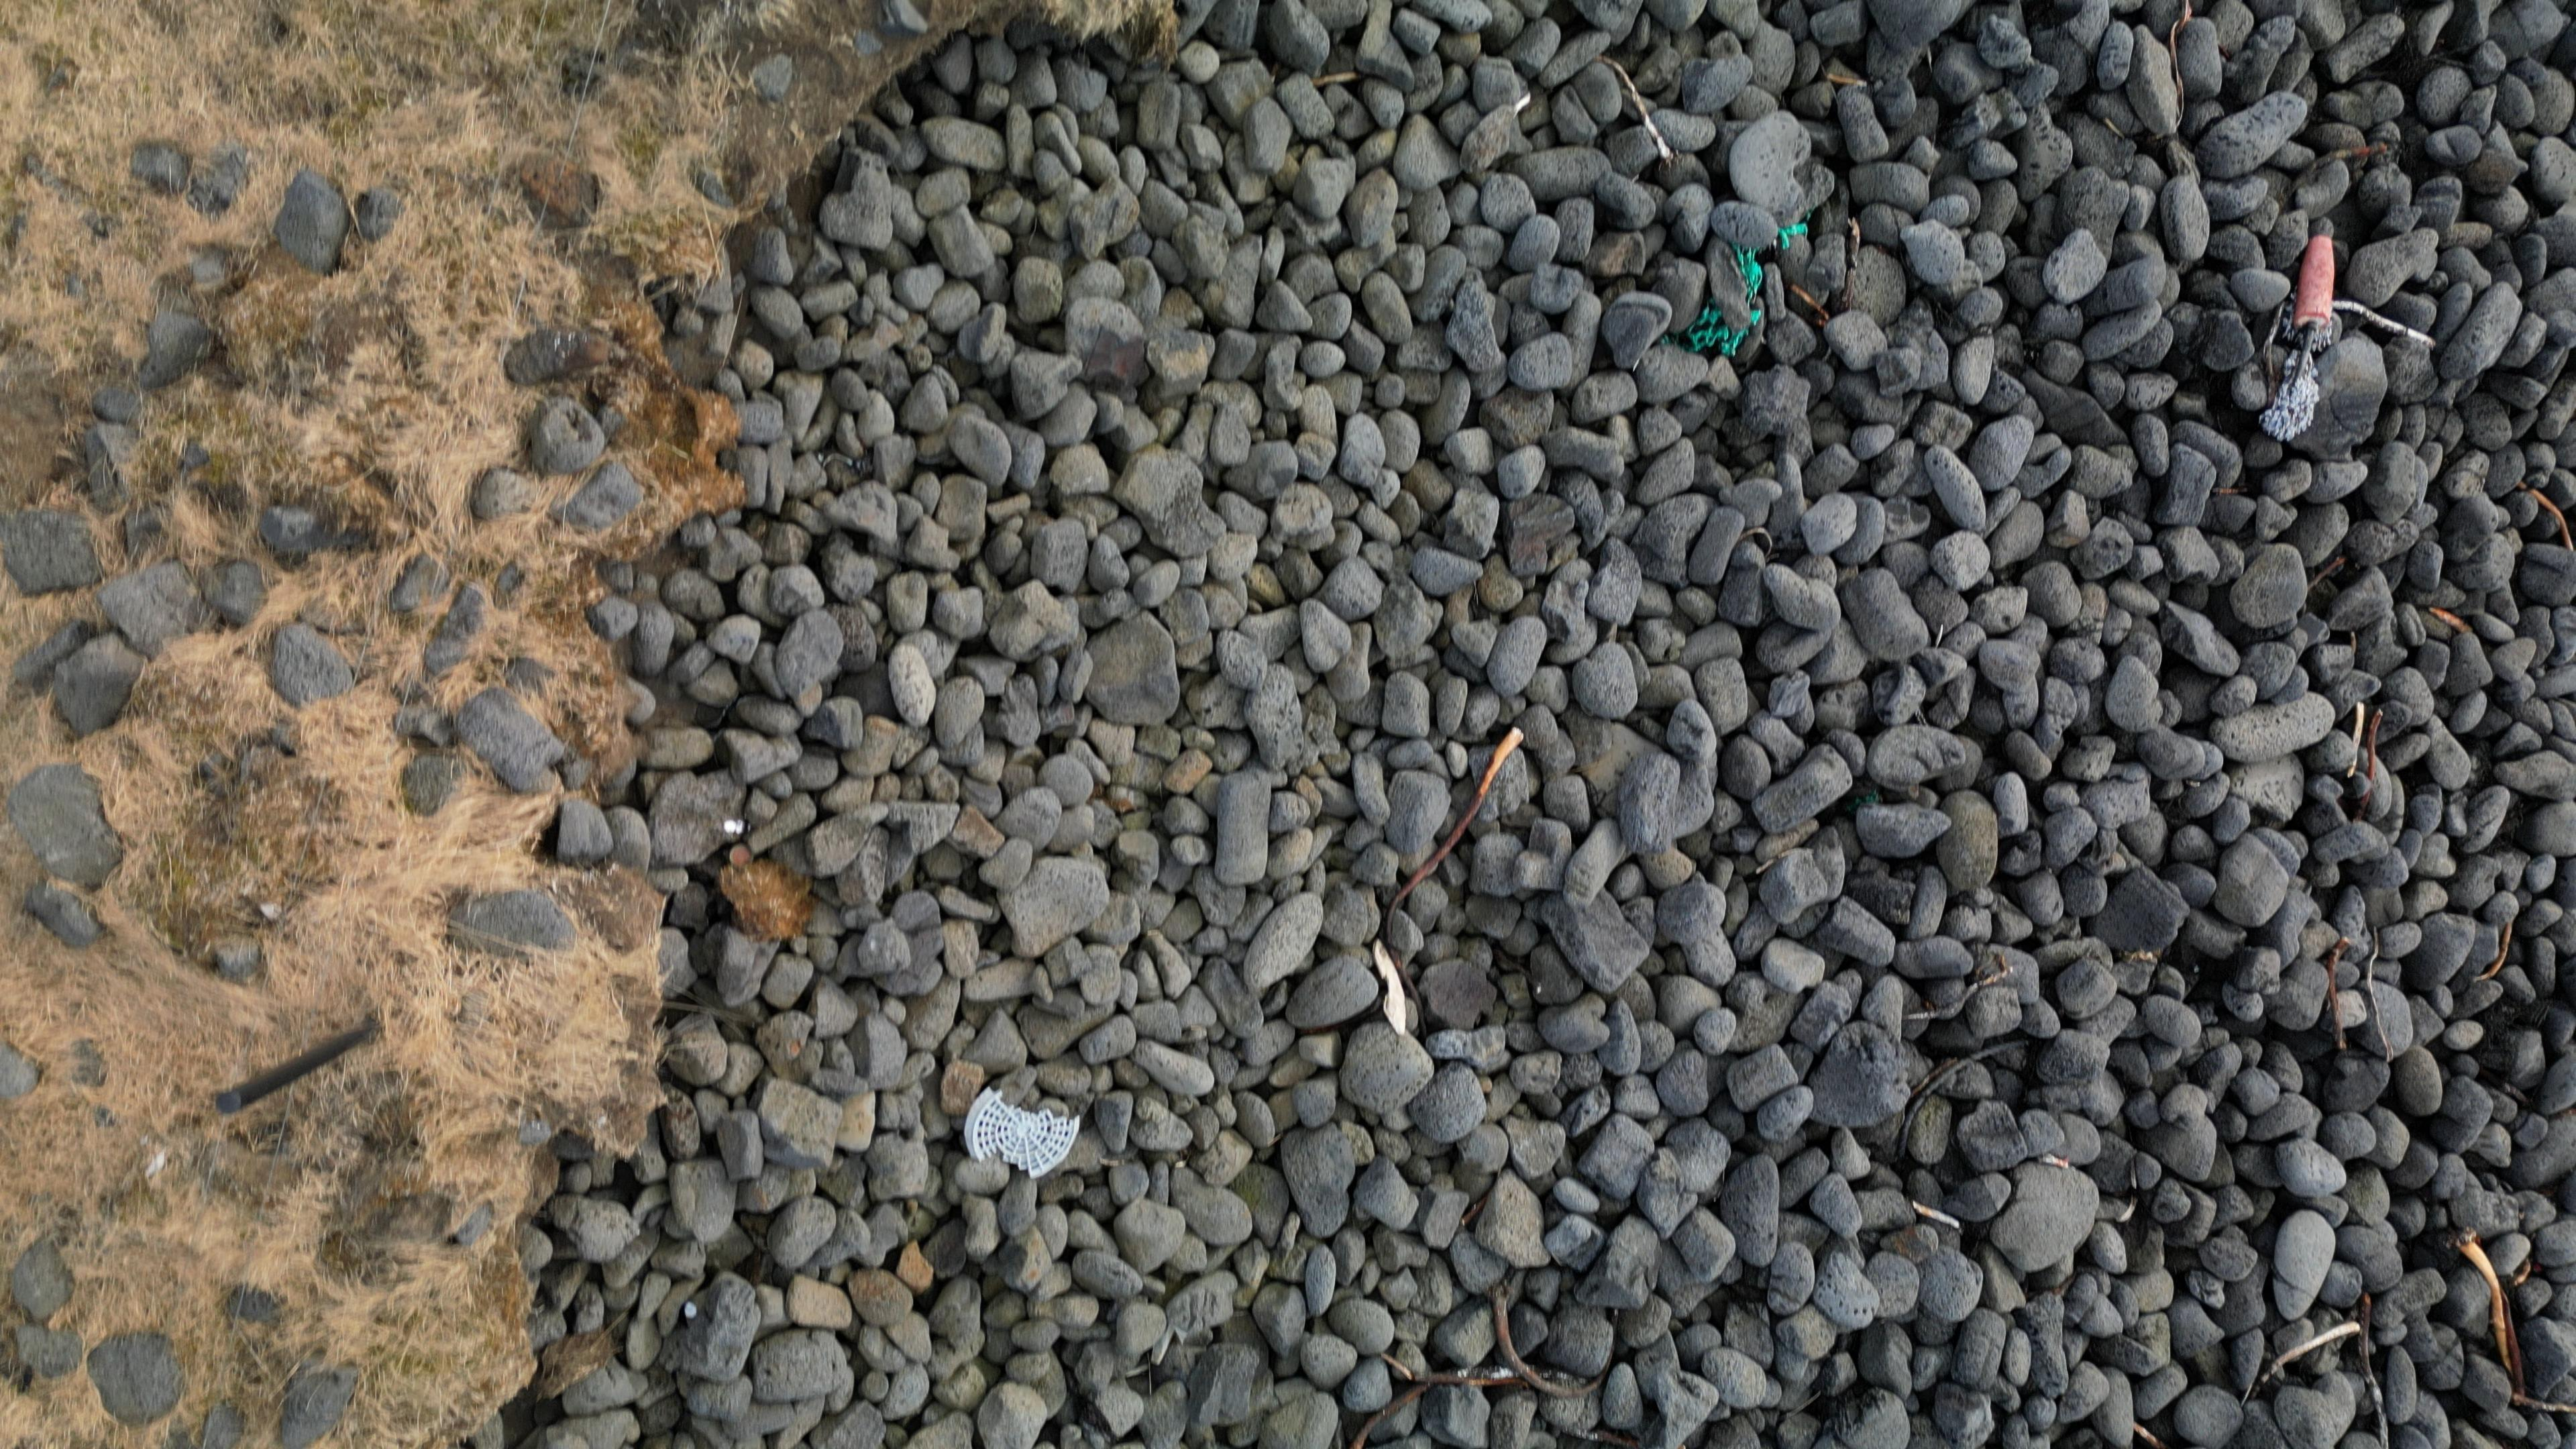trash: (966, 1086, 1077, 1177), (1373, 941, 1414, 1037)
